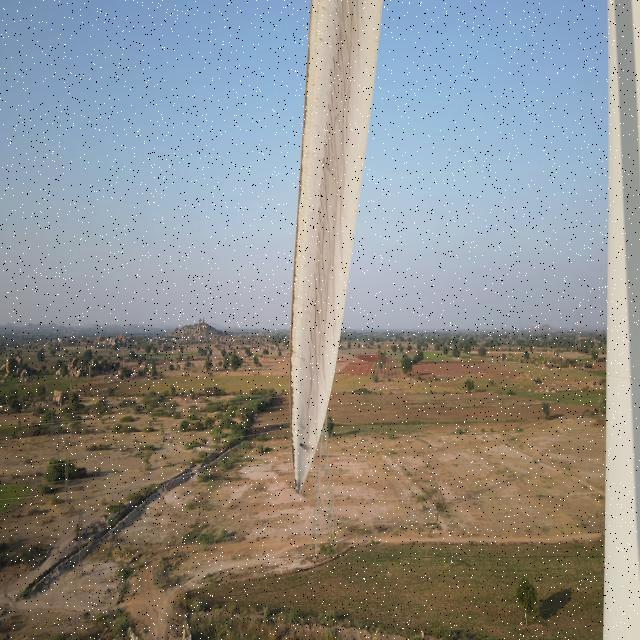Dirt: (302, 2, 366, 446)
Pin Hole: (298, 438, 308, 451)
